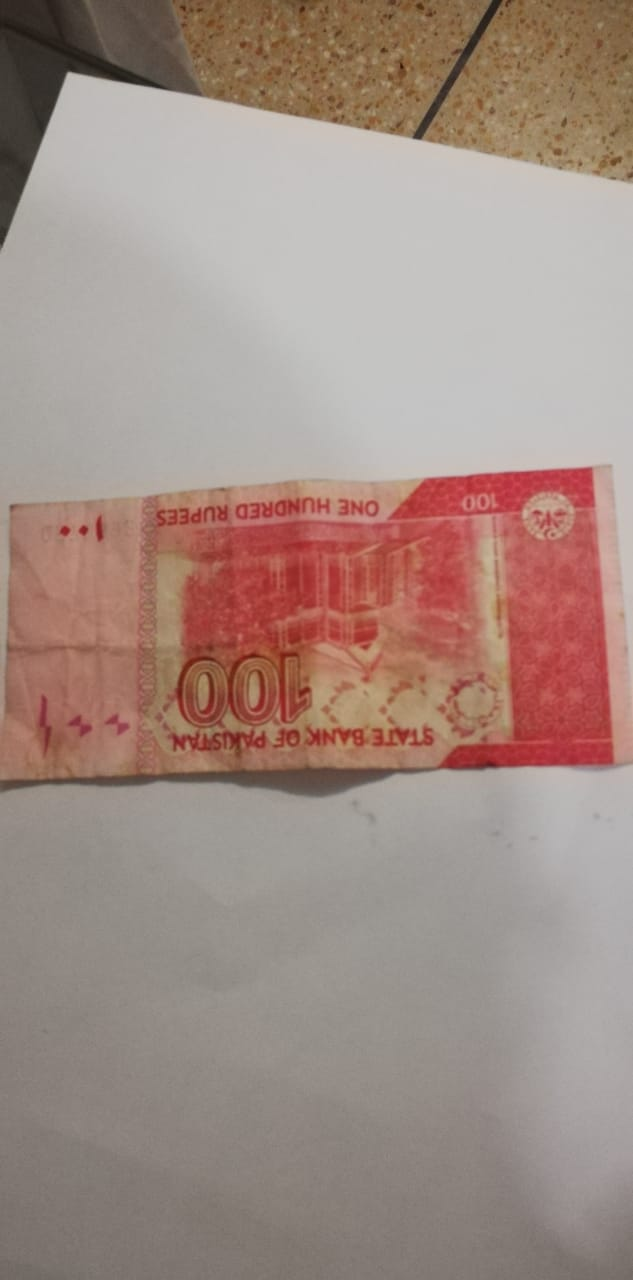100 rupee: (9, 447, 627, 793)
